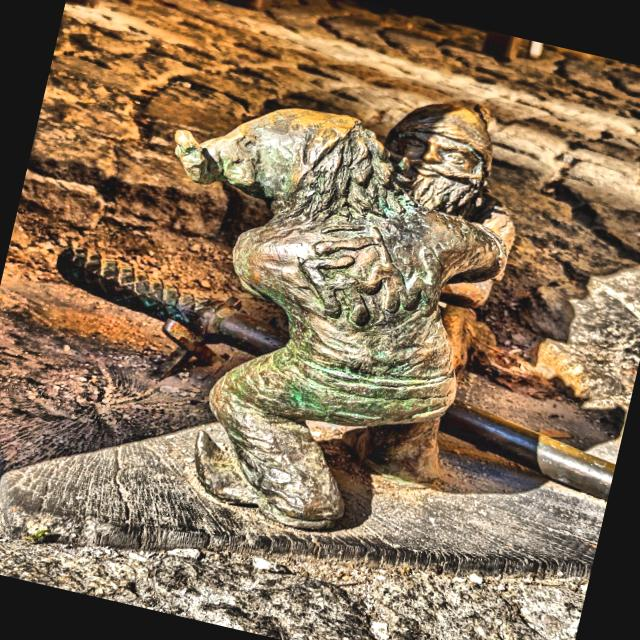Wyrostek i Zadymek: (57, 103, 612, 530)
